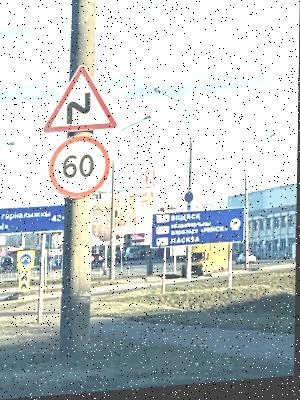Speed Limit -60-: (46, 132, 112, 202)
